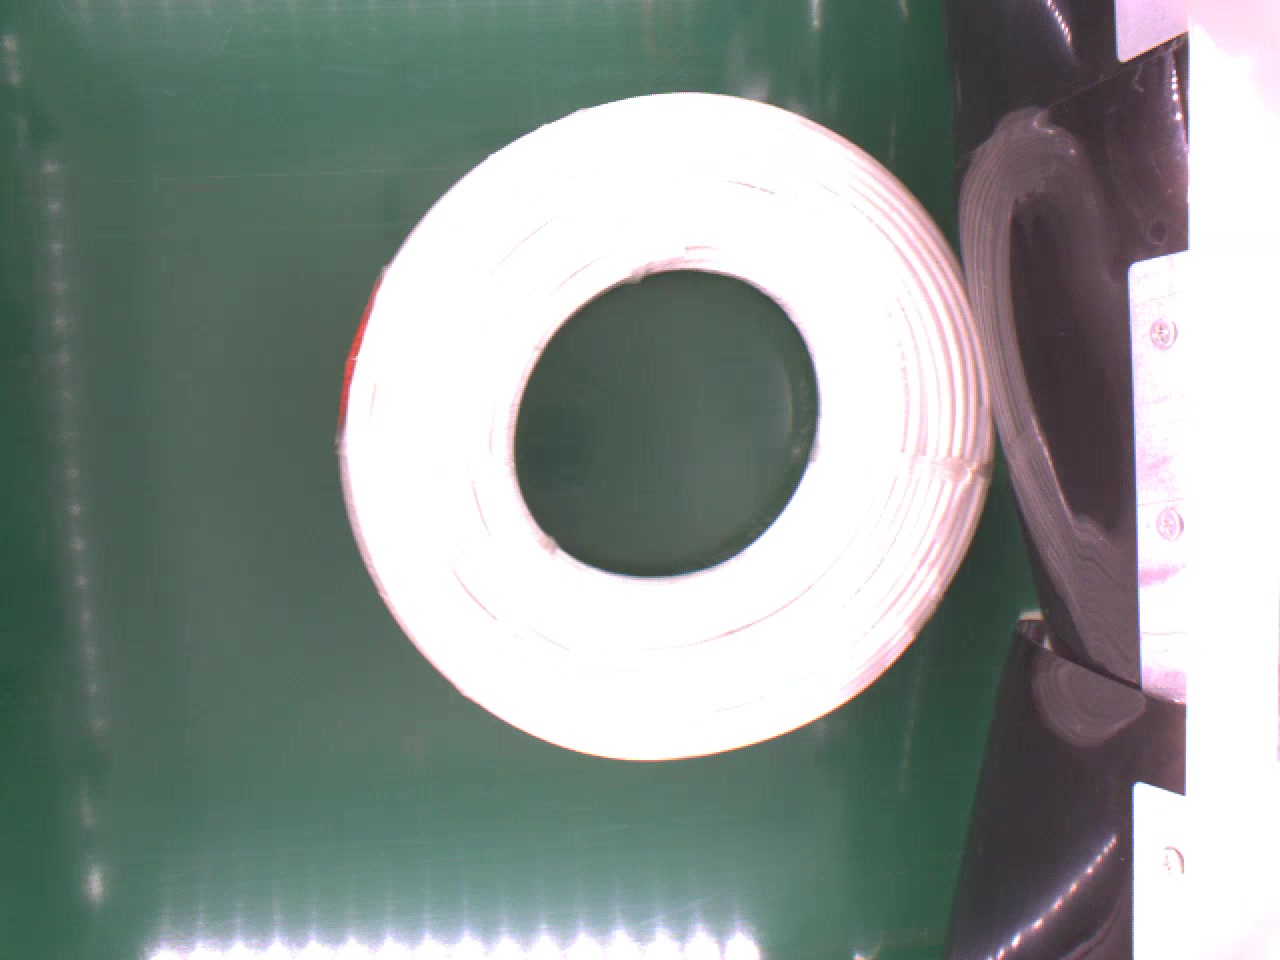white: (331, 82, 1002, 775)
